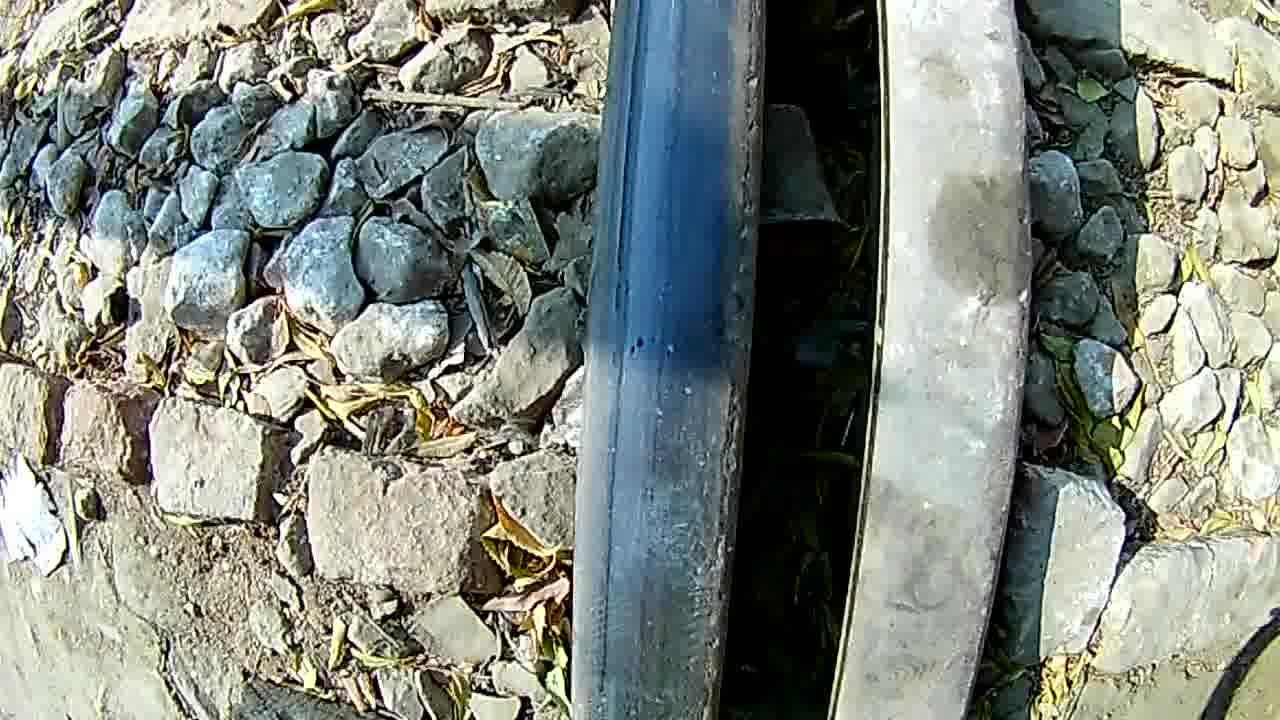clip_missing: (580, 0, 794, 720)
